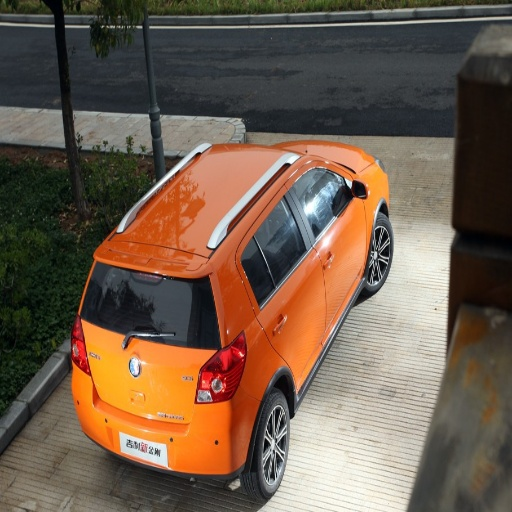back_bumper: (80, 371, 261, 485)
back_right_door: (242, 182, 305, 294)
trunk: (87, 325, 224, 440)
